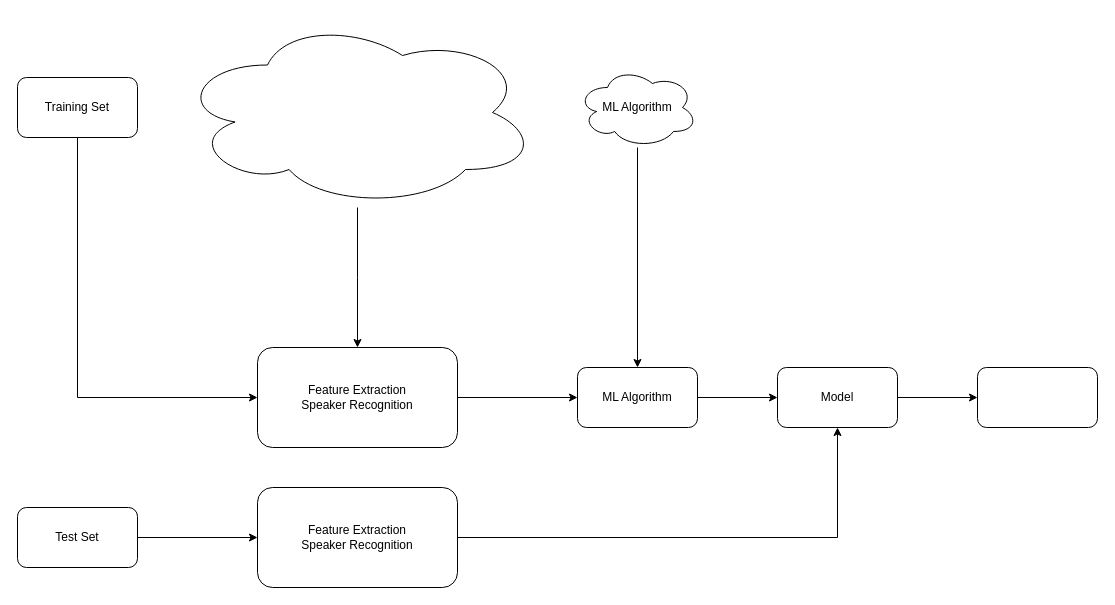
Image size: 1115x605. Some labels were removed from this diagram. The shapes that lost their labels are listed below. From the top down, each one's centre as x and y in pixels, then its label:
the point at 357,112: Feature Selection ex. She was my mom -> mother(me, she)
the point at 1037,397: Family Tree
